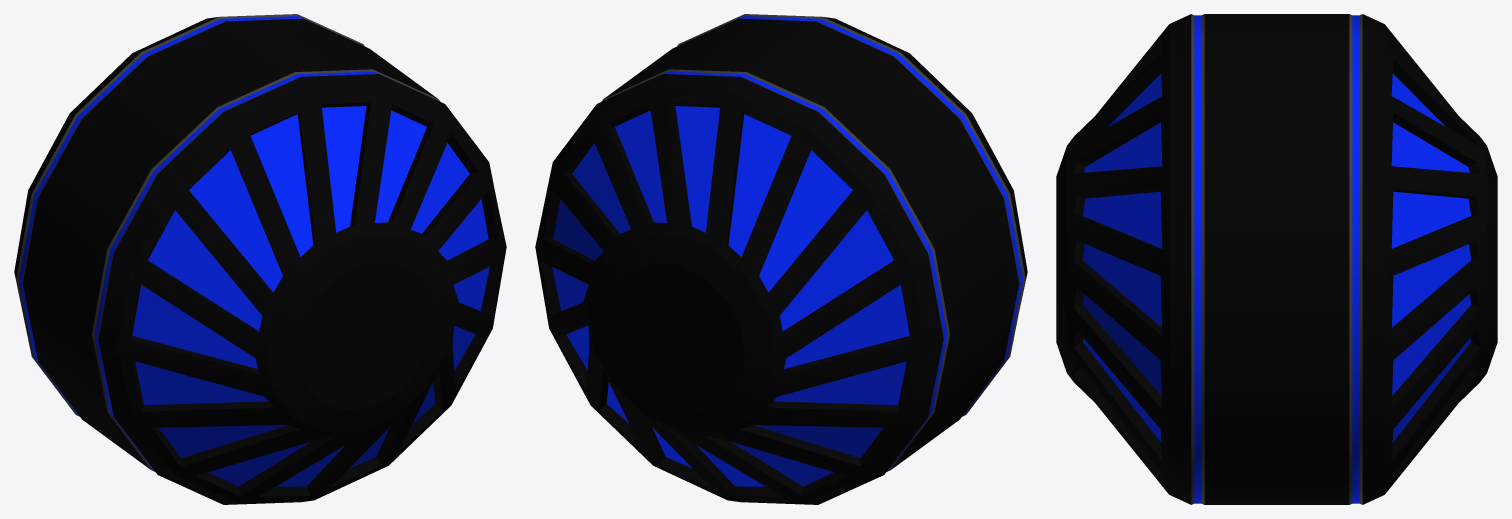
Rendered from Attachment_Rolling Cylinder.fbx.
The picture shows the model from 3 angles, left to right: view 1: azimuth 30°, elevation 25°; view 2: azimuth 150°, elevation 25°; view 3: azimuth 270°, elevation 25°; orthographic projection. The views are drawn at different scales.
Parts seen in each view (by area): view 1: Attachment_Rolling Cylinder; view 2: Attachment_Rolling Cylinder; view 3: Attachment_Rolling Cylinder.
Part boxes in pixels (<box>): Attachment_Rolling Cylinder: <box>14,14,506,504</box>; Attachment_Rolling Cylinder: <box>535,14,1027,504</box>; Attachment_Rolling Cylinder: <box>1056,14,1497,504</box>.
Size of the model in its own units: 0.9818 by 0.9818 by 0.881.
